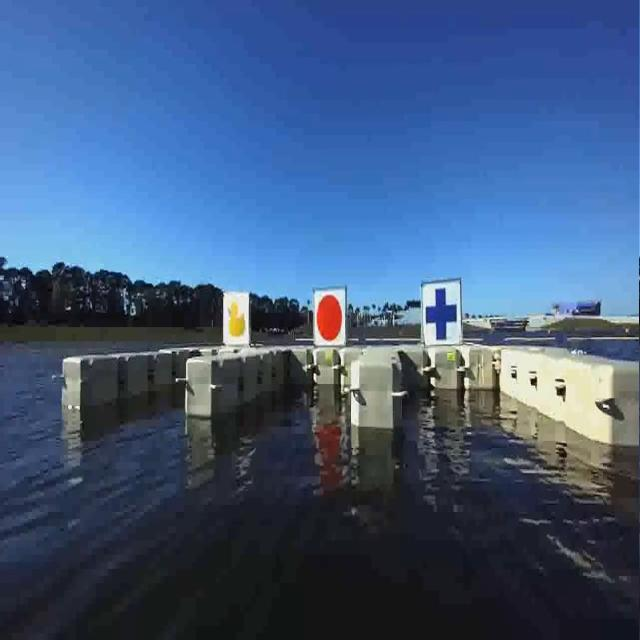blue-cross: (422, 280, 461, 345)
red-dot: (312, 287, 347, 343)
yellow-duck: (223, 292, 249, 342)
